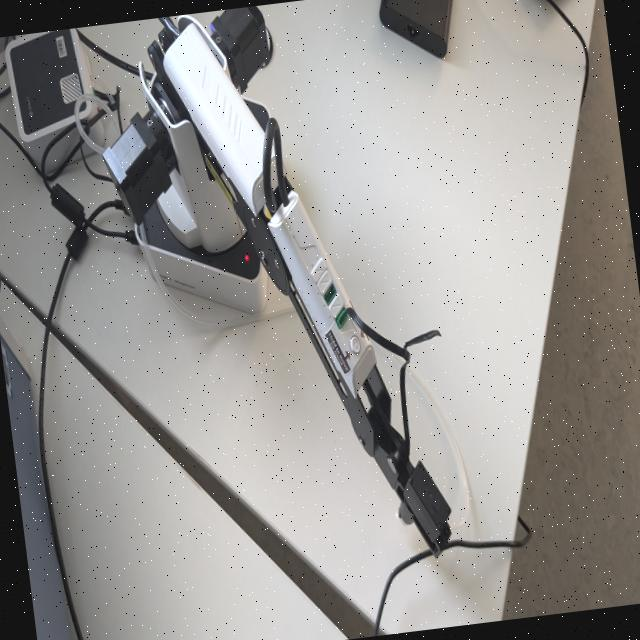Robot-end-effector-HF8z: (381, 451, 459, 566)
